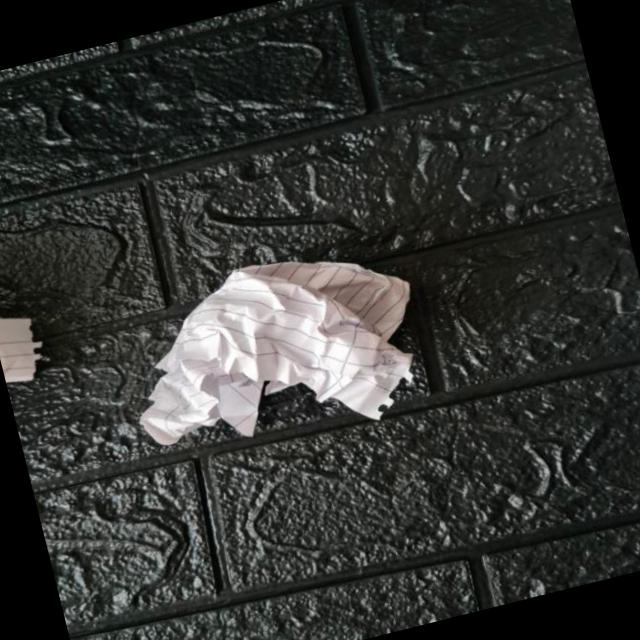cardboard paper: (139, 260, 409, 443), (0, 317, 39, 380)
